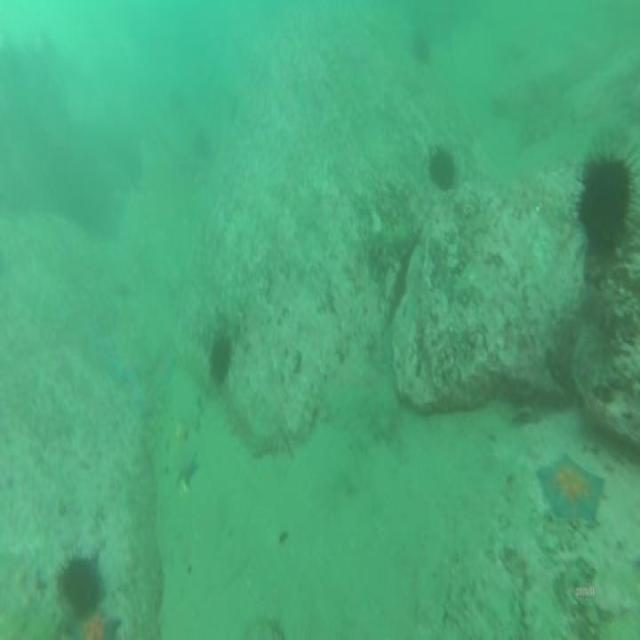echinus: (579, 156, 631, 258), (60, 556, 102, 616), (207, 338, 230, 381), (431, 148, 453, 186)
starfish: (535, 452, 604, 526), (178, 449, 200, 488), (111, 354, 136, 384), (134, 386, 156, 416)
